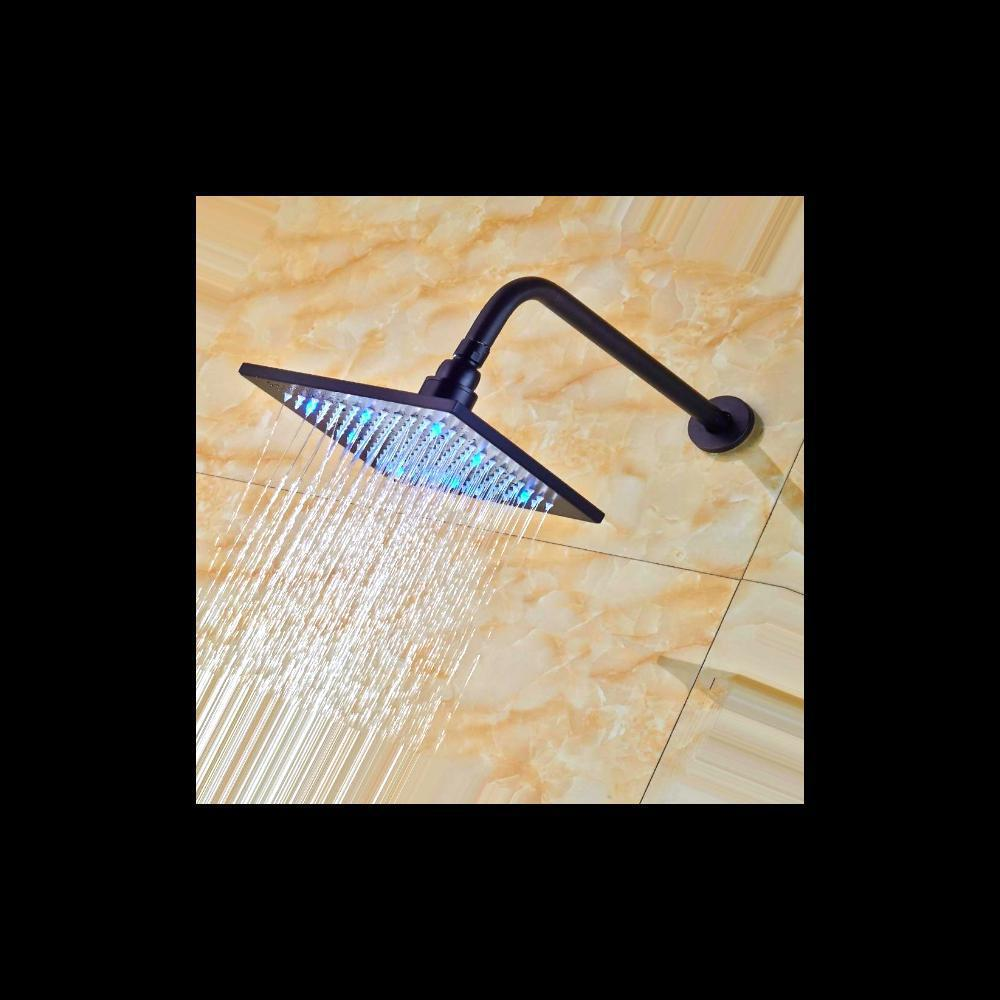Ducha: (196, 196, 803, 803)
